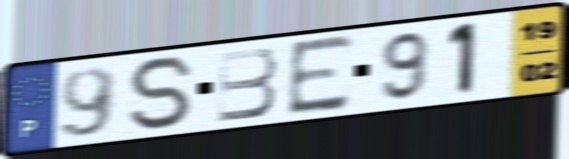1: (444, 19, 482, 97)
9: (55, 64, 124, 139), (377, 28, 433, 102)
B: (215, 45, 280, 125)
E: (285, 31, 358, 120)
S: (125, 54, 200, 133)
